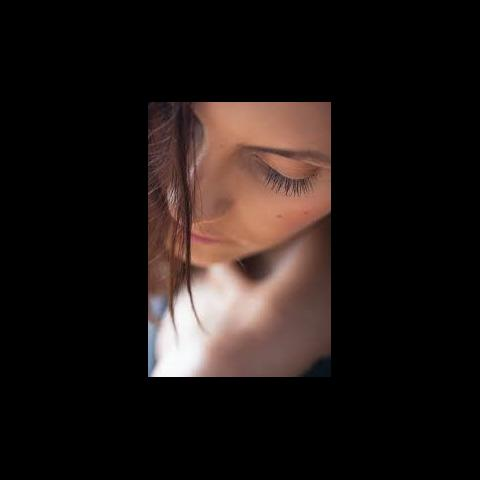closed: (167, 103, 332, 209)
